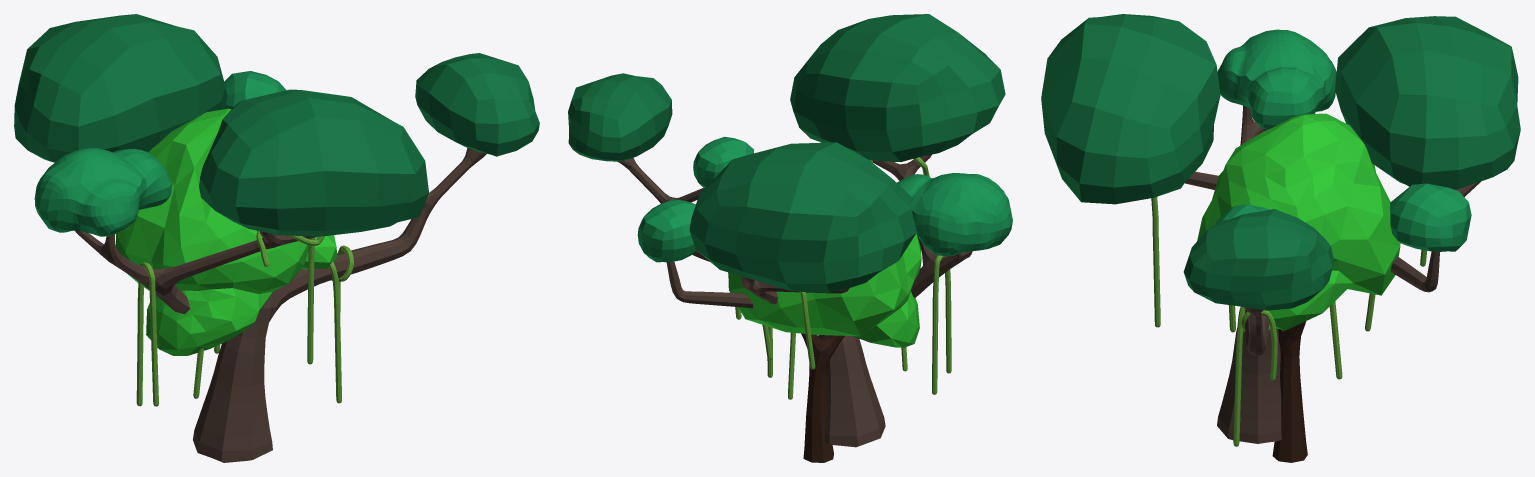
The model's file is pantanos.fbx.
3 views of the same model, side by side, from view 1: azimuth 30°, elevation 25°; view 2: azimuth 150°, elevation 25°; view 3: azimuth 270°, elevation 25° (orthographic). The views are drawn at different scales.
Visible parts, largest first — view 1: tree_1, tree3_Icosphere.003; view 2: tree_1, tree3_Icosphere.003; view 3: tree_1, tree3_Icosphere.003.
Part boxes in pixels (<box>): tree_1: <box>14,14,539,462</box>; tree3_Icosphere.003: <box>116,108,337,355</box>; tree_1: <box>568,14,1012,447</box>; tree3_Icosphere.003: <box>728,233,921,462</box>; tree_1: <box>1041,14,1520,446</box>; tree3_Icosphere.003: <box>1197,113,1400,462</box>.
Bounding box in the file's own units: 3172 × 2629 × 2689.
